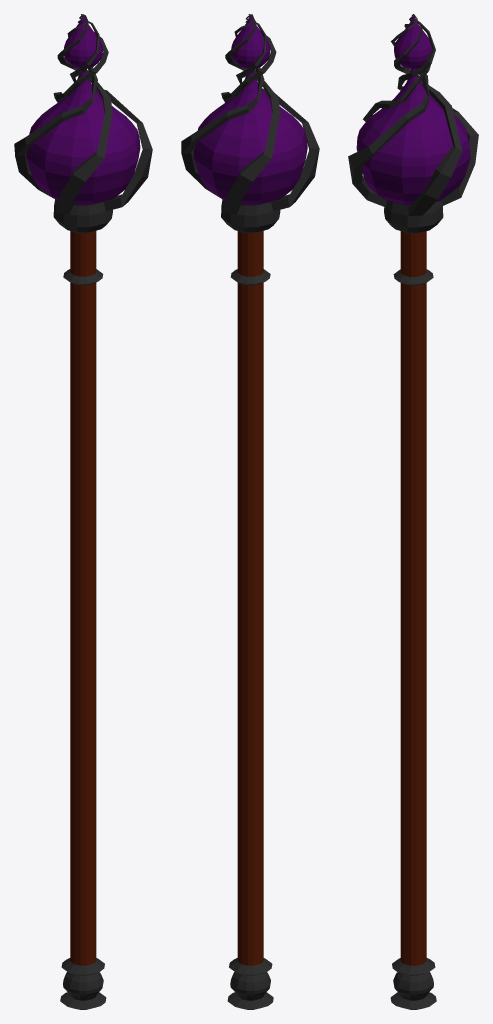
The model's file is S_Weapon_MagicWand.fbx.
The picture shows the model from 3 angles, left to right: view 1: azimuth 30°, elevation 25°; view 2: azimuth 210°, elevation 25°; view 3: azimuth 330°, elevation 25°; orthographic projection.
Visible parts, largest first — view 1: Cube; view 2: Cube; view 3: Cube.
Part boxes in pixels (<box>): Cube: <box>14,14,152,1009</box>; Cube: <box>181,14,319,1009</box>; Cube: <box>348,14,478,1009</box>.
Size of the model in its own units: 19.6 by 19.73 by 172.
